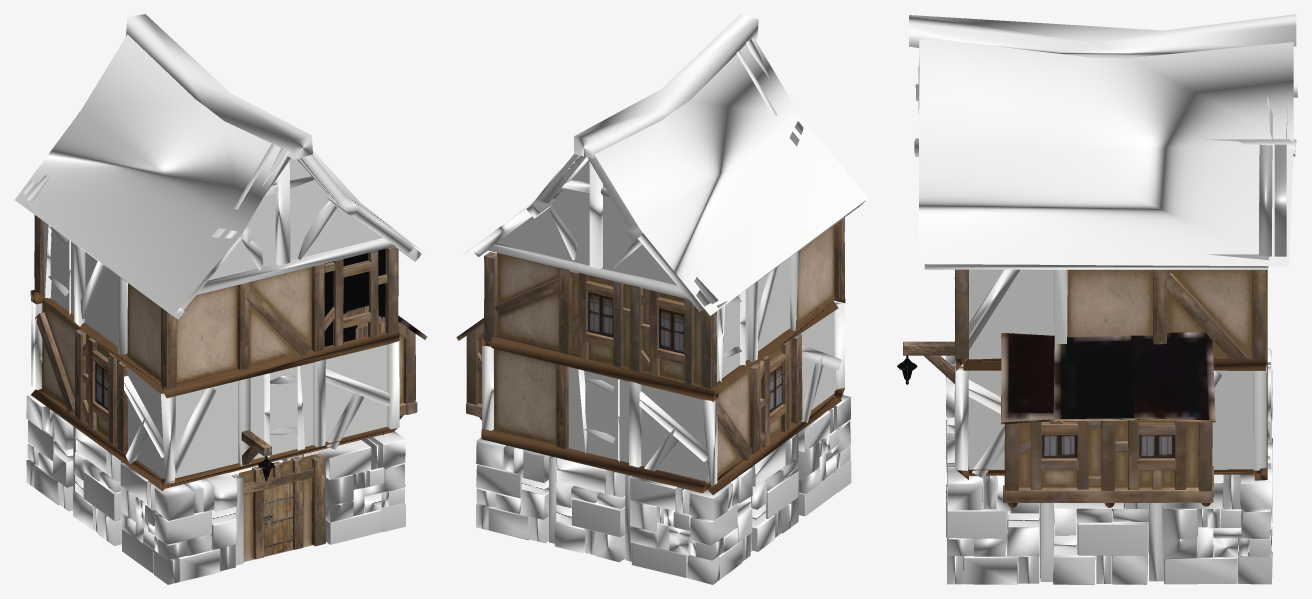
The picture shows the model from 3 angles, left to right: view 1: azimuth 30°, elevation 25°; view 2: azimuth 150°, elevation 25°; view 3: azimuth 270°, elevation 25°; orthographic projection. The views are drawn at different scales.
Visible parts, largest first — view 1: Cube.001, bay window 2.001, corner stone wall 1.001; view 2: Cube.001, bay window 2.001, corner stone wall 1.001; view 3: Cube.001, bay window 2.001, corner stone wall 1.001.
Boxes of the visible parts, left/top/right/bottom form: Cube.001: left=14, top=14, right=422, bottom=483; bay window 2.001: left=30, top=215, right=427, bottom=561; corner stone wall 1.001: left=26, top=394, right=405, bottom=584; Cube.001: left=466, top=14, right=868, bottom=486; bay window 2.001: left=456, top=217, right=845, bottom=494; corner stone wall 1.001: left=476, top=395, right=851, bottom=584; Cube.001: left=909, top=14, right=1297, bottom=478; bay window 2.001: left=897, top=269, right=1267, bottom=510; corner stone wall 1.001: left=945, top=348, right=1272, bottom=584.
Bounding box in the file's own units: 8.37 × 11.97 × 8.68.
Materials: 3 (1 with a texture image).
